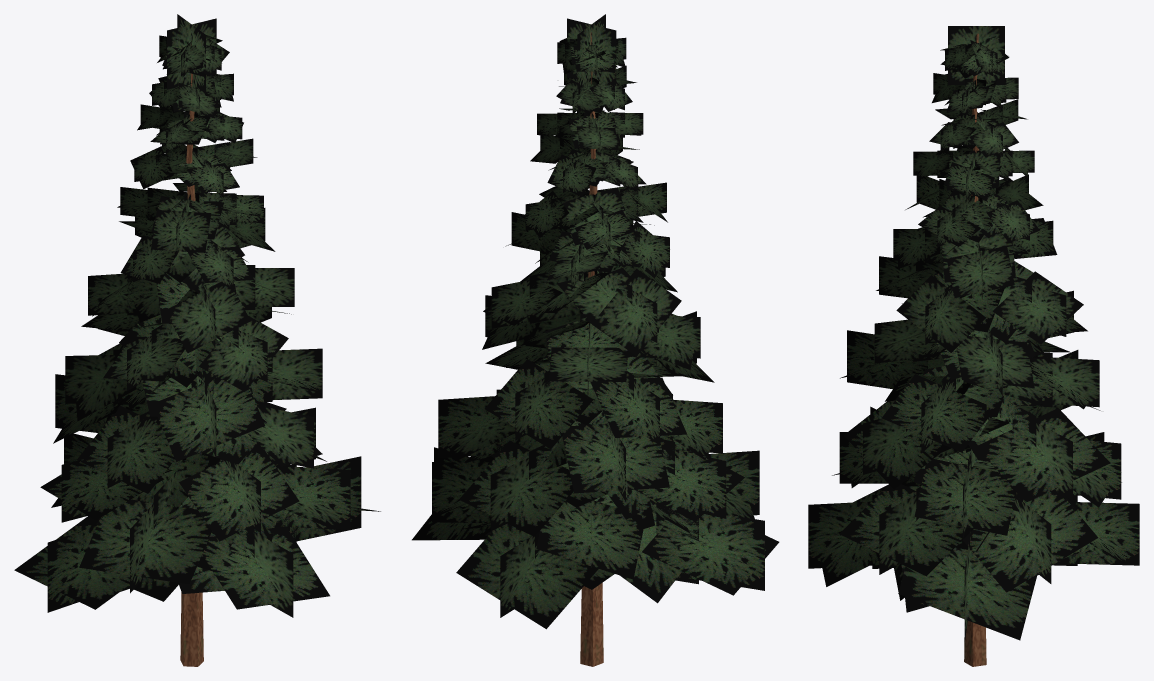
Rendered from Pine_2_LOD1.gltf.
The picture shows the model from 3 angles, left to right: view 1: azimuth 30°, elevation 25°; view 2: azimuth 150°, elevation 25°; view 3: azimuth 270°, elevation 25°; orthographic projection.
Visible parts, largest first — view 1: Pine_2_LOD1; view 2: Pine_2_LOD1; view 3: Pine_2_LOD1.
Part boxes in pixels (<box>): Pine_2_LOD1: <box>14,14,380,666</box>; Pine_2_LOD1: <box>412,14,779,666</box>; Pine_2_LOD1: <box>808,26,1139,666</box>.
Bounding box in the file's own units: 9.04 × 17.03 × 8.04.
2 materials, 2 textured.
